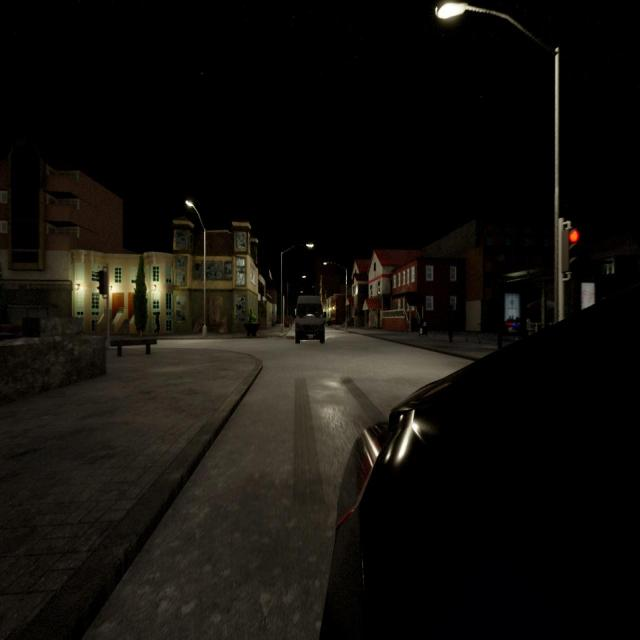Vehicle: (322, 278, 640, 640), (294, 296, 327, 344)
traffic_light: (561, 229, 579, 274), (97, 270, 107, 296)
